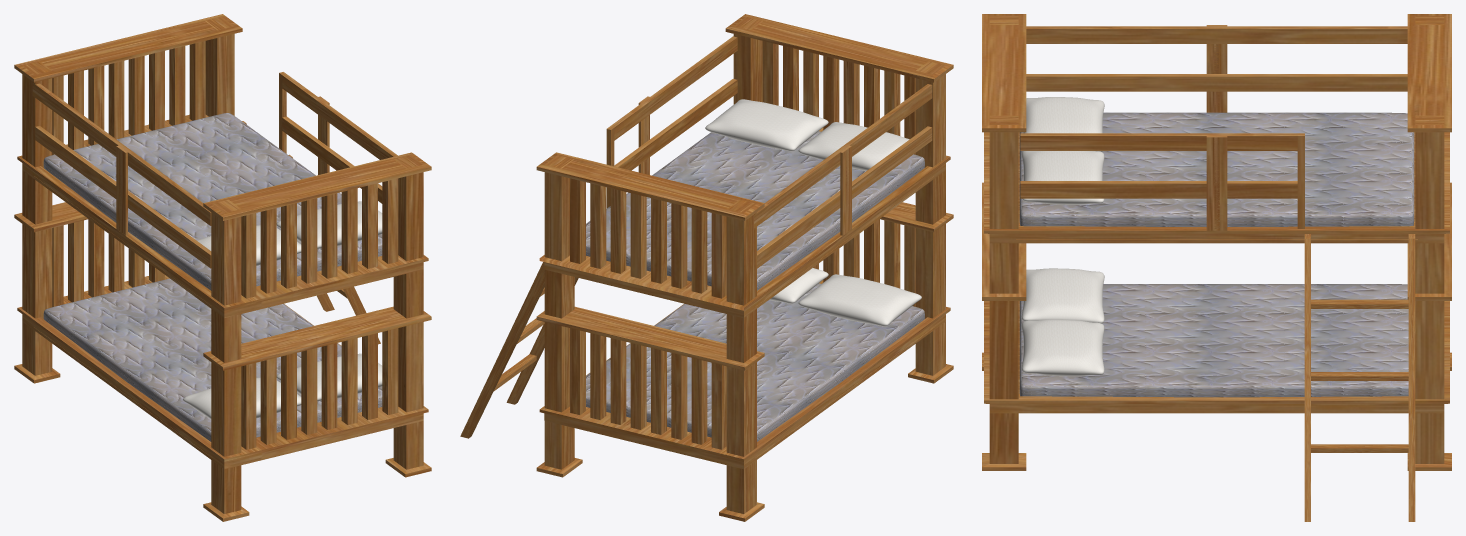
Rendered from bunk_bed.fbx.
3 renders of one model, left to right at view 1: azimuth 30°, elevation 25°; view 2: azimuth 150°, elevation 25°; view 3: azimuth 270°, elevation 25°, orthographic. The views are drawn at different scales.
Parts seen in each view (by area): view 1: bunk_bed_frame, bunk_bed_upper_mattress, bunk_bed_lower_mattress, bunk_bed_lower_pillow_2, bunk_bed_upper_pillow_1, bunk_bed_lower_pillow_1, bunk_bed_ladder, bunk_bed_upper_pillow_2; view 2: bunk_bed_frame, bunk_bed_lower_mattress, bunk_bed_upper_mattress, bunk_bed_upper_pillow_1, bunk_bed_lower_pillow_2, bunk_bed_ladder, bunk_bed_upper_pillow_2, bunk_bed_lower_pillow_1; view 3: bunk_bed_frame, bunk_bed_lower_mattress, bunk_bed_upper_mattress, bunk_bed_ladder, bunk_bed_lower_pillow_1, bunk_bed_lower_pillow_2, bunk_bed_upper_pillow_1, bunk_bed_upper_pillow_2.
Boxes of the visible parts, left/top/right/bottom form: bunk_bed_frame: left=14, top=14, right=431, bottom=521; bunk_bed_upper_mattress: left=43, top=113, right=382, bottom=290; bunk_bed_lower_mattress: left=43, top=278, right=382, bottom=441; bunk_bed_lower_pillow_2: left=183, top=377, right=301, bottom=419; bunk_bed_upper_pillow_1: left=276, top=201, right=382, bottom=248; bunk_bed_lower_pillow_1: left=276, top=353, right=382, bottom=401; bunk_bed_ladder: left=242, top=121, right=380, bottom=344; bunk_bed_upper_pillow_2: left=197, top=225, right=301, bottom=265; bunk_bed_frame: left=536, top=14, right=953, bottom=521; bunk_bed_lower_mattress: left=586, top=283, right=924, bottom=441; bunk_bed_upper_mattress: left=586, top=131, right=924, bottom=290; bunk_bed_upper_pillow_1: left=705, top=99, right=828, bottom=151; bunk_bed_lower_pillow_2: left=798, top=274, right=921, bottom=326; bunk_bed_ladder: left=460, top=262, right=578, bottom=438; bunk_bed_upper_pillow_2: left=798, top=122, right=909, bottom=170; bunk_bed_lower_pillow_1: left=769, top=268, right=828, bottom=303; bunk_bed_frame: left=982, top=14, right=1451, bottom=470; bunk_bed_lower_mattress: left=1019, top=284, right=1408, bottom=397; bunk_bed_upper_mattress: left=1019, top=112, right=1414, bottom=226; bunk_bed_ladder: left=1304, top=234, right=1415, bottom=521; bunk_bed_lower_pillow_1: left=1021, top=319, right=1104, bottom=376; bunk_bed_lower_pillow_2: left=1021, top=268, right=1104, bottom=323; bunk_bed_upper_pillow_1: left=1021, top=151, right=1104, bottom=204; bunk_bed_upper_pillow_2: left=1023, top=97, right=1104, bottom=151.
Bounding box in the file's own units: 7.44 × 7.2 × 8.93.
3 materials, 3 textured.
